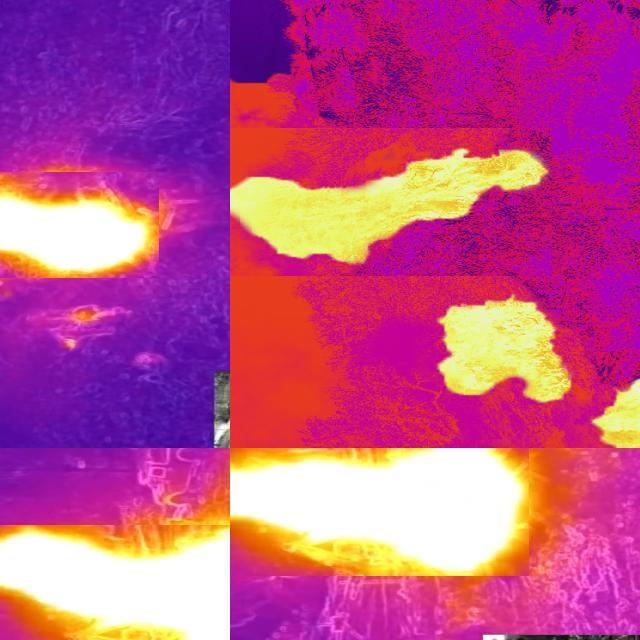fire: (231, 129, 552, 277), (231, 449, 529, 577), (1, 526, 231, 640), (413, 293, 590, 408), (1, 173, 159, 279), (599, 368, 640, 450)
